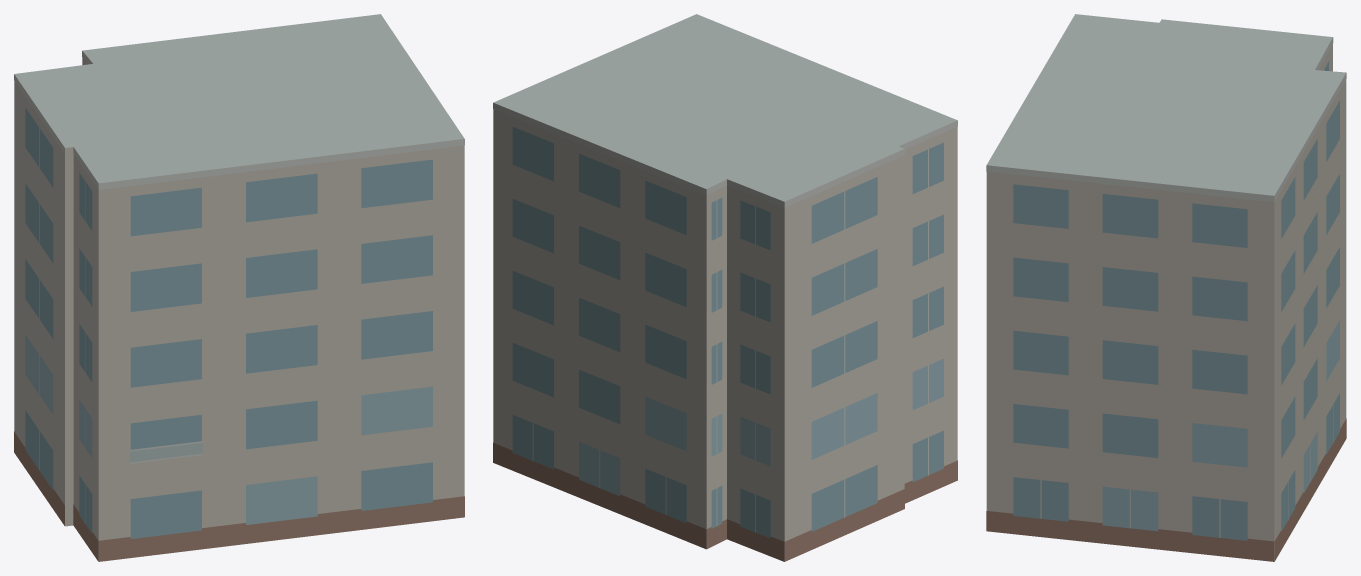
The model's file is survey-upis-33019364.glb.
3 views of the same model, side by side, from view 1: azimuth 30°, elevation 25°; view 2: azimuth 150°, elevation 25°; view 3: azimuth 270°, elevation 25° (orthographic). The views are drawn at different scales.
Parts seen in each view (by area): view 1: survey-upis-33019364.tmp; view 2: survey-upis-33019364.tmp; view 3: survey-upis-33019364.tmp.
Boxes of the visible parts, x1,y1,x2,y2 form: survey-upis-33019364.tmp: (14, 14, 464, 561); survey-upis-33019364.tmp: (493, 14, 957, 561); survey-upis-33019364.tmp: (986, 14, 1346, 561).
Bounding box in the file's own units: 15.03 × 14.1 × 12.58.
